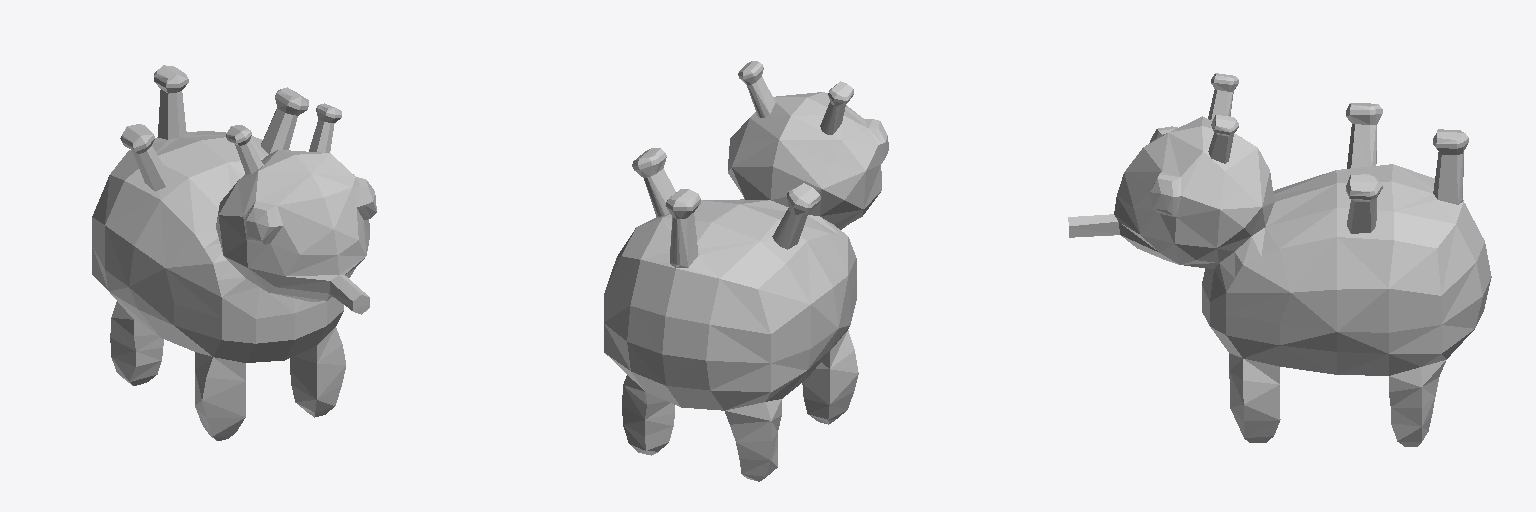
File: BadderyV2.obj
3 views of the same model, side by side, from view 1: azimuth 30°, elevation 25°; view 2: azimuth 150°, elevation 25°; view 3: azimuth 270°, elevation 25° (orthographic).
Visible parts, largest first — view 1: Cube; view 2: Cube; view 3: Cube.
Part boxes in pixels (x1,y1,x2,y2): Cube: (92, 65, 376, 440); Cube: (604, 61, 888, 481); Cube: (1068, 73, 1491, 446).
Size of the model in its own units: 9.64 by 15.01 by 17.88.